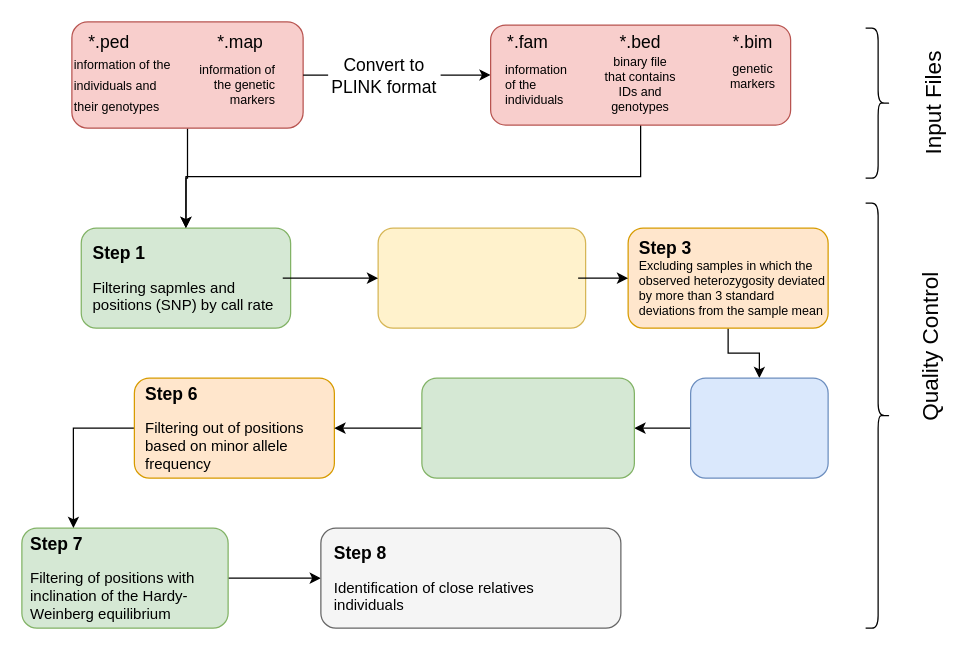
The diagram is 975 pixels wide and 650 high, and some of its shapes have lost their labels. Each missing label, with the centre of its shape:
"Step 2 Filtering samples with sex discrepancy" belongs at pixel 481 277.
"Step 4 Imputing" belongs at pixel 758 427.
"Step 5 Remove positions on sex chromosomes and mitochondria" belongs at pixel 527 427.
